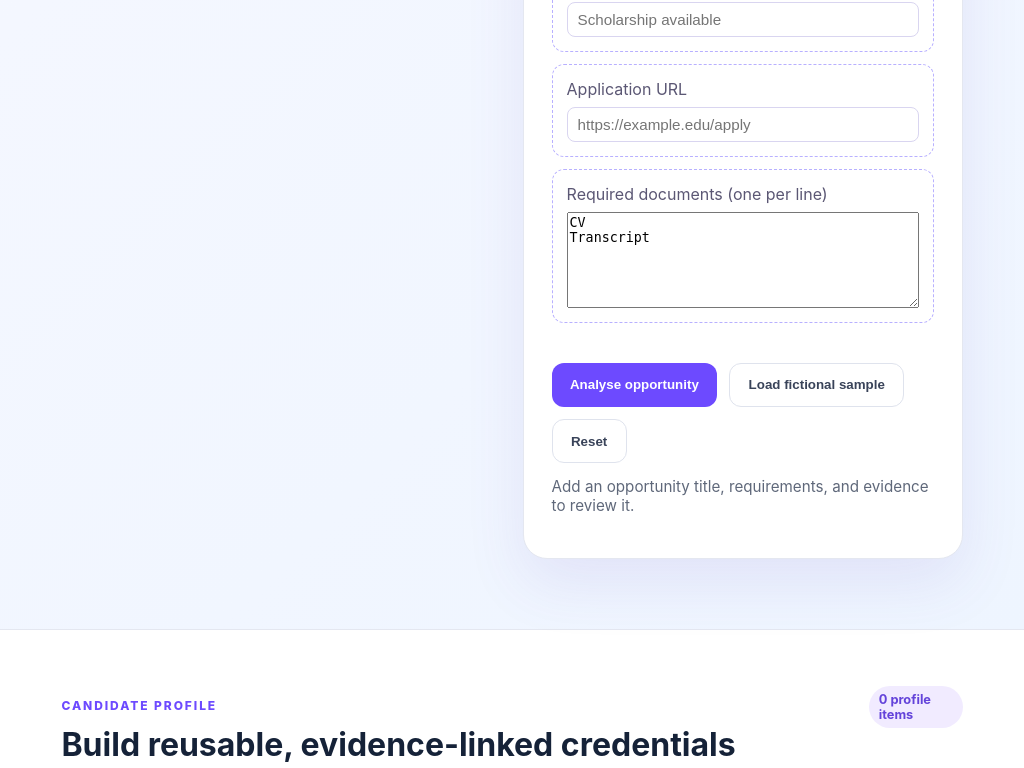
Test: ApplyLens UI › loads a complete fictional opportunity sample
(page scrolled)
What coordinates should you click on to do the following:
click the button "Load fictional sample"
I would click on:
 (817, 385)
Its box is [729, 363, 904, 407].
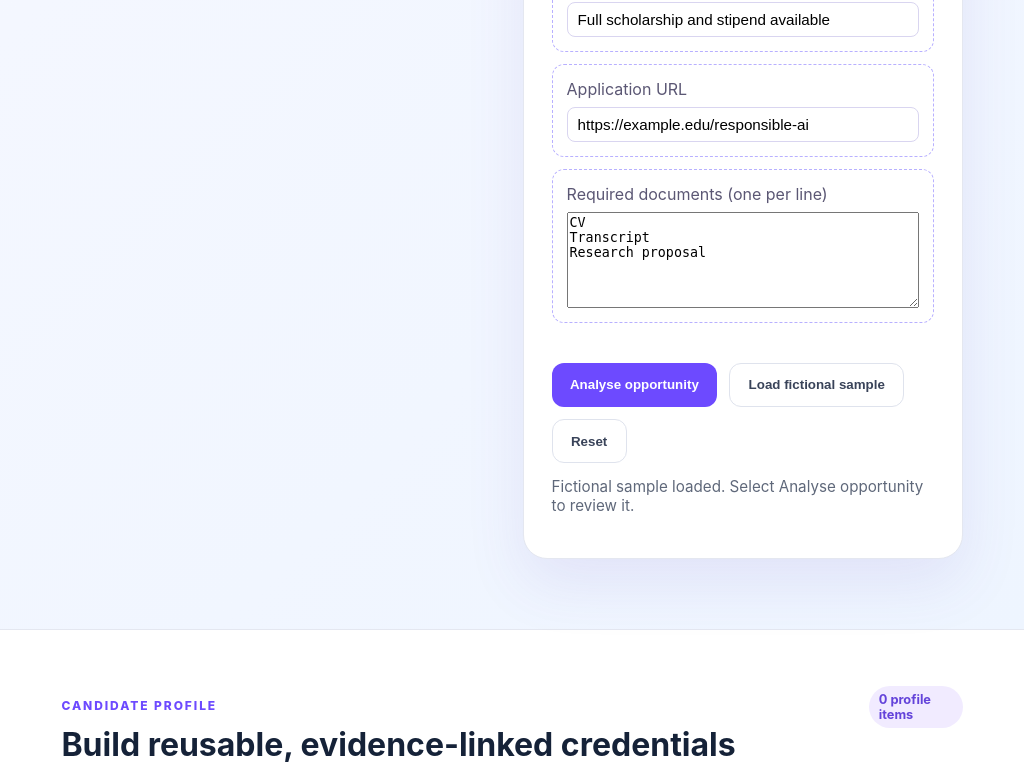
Expected: the text "Fictional sample loaded" is shown, [552, 477, 923, 515]
